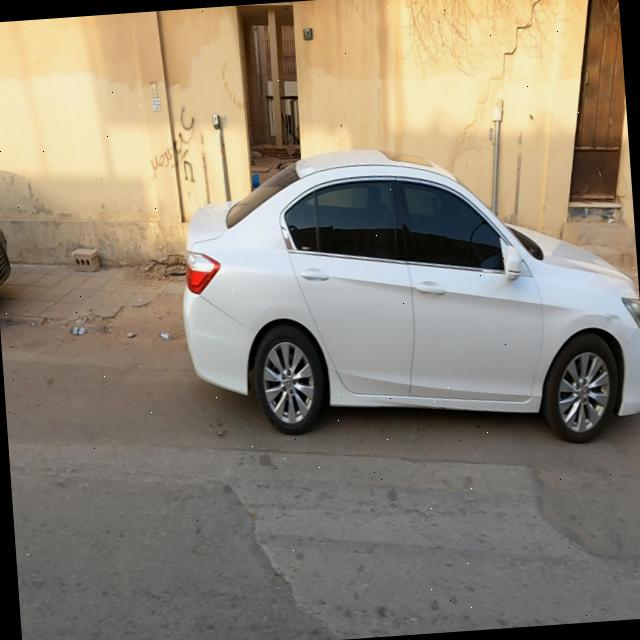Graffiti: (146, 103, 218, 210), (509, 130, 532, 218)
